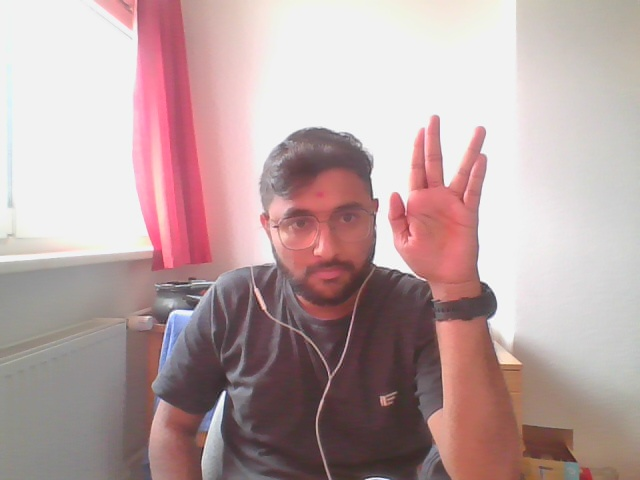LiveLong: (388, 115, 489, 280)
